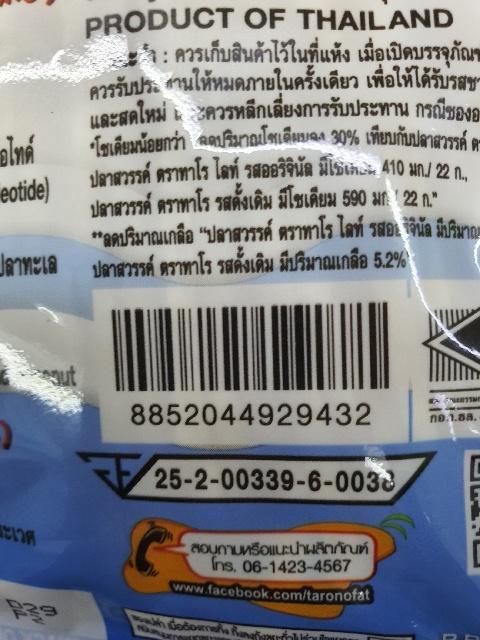Barcode: (103, 295, 396, 434)
